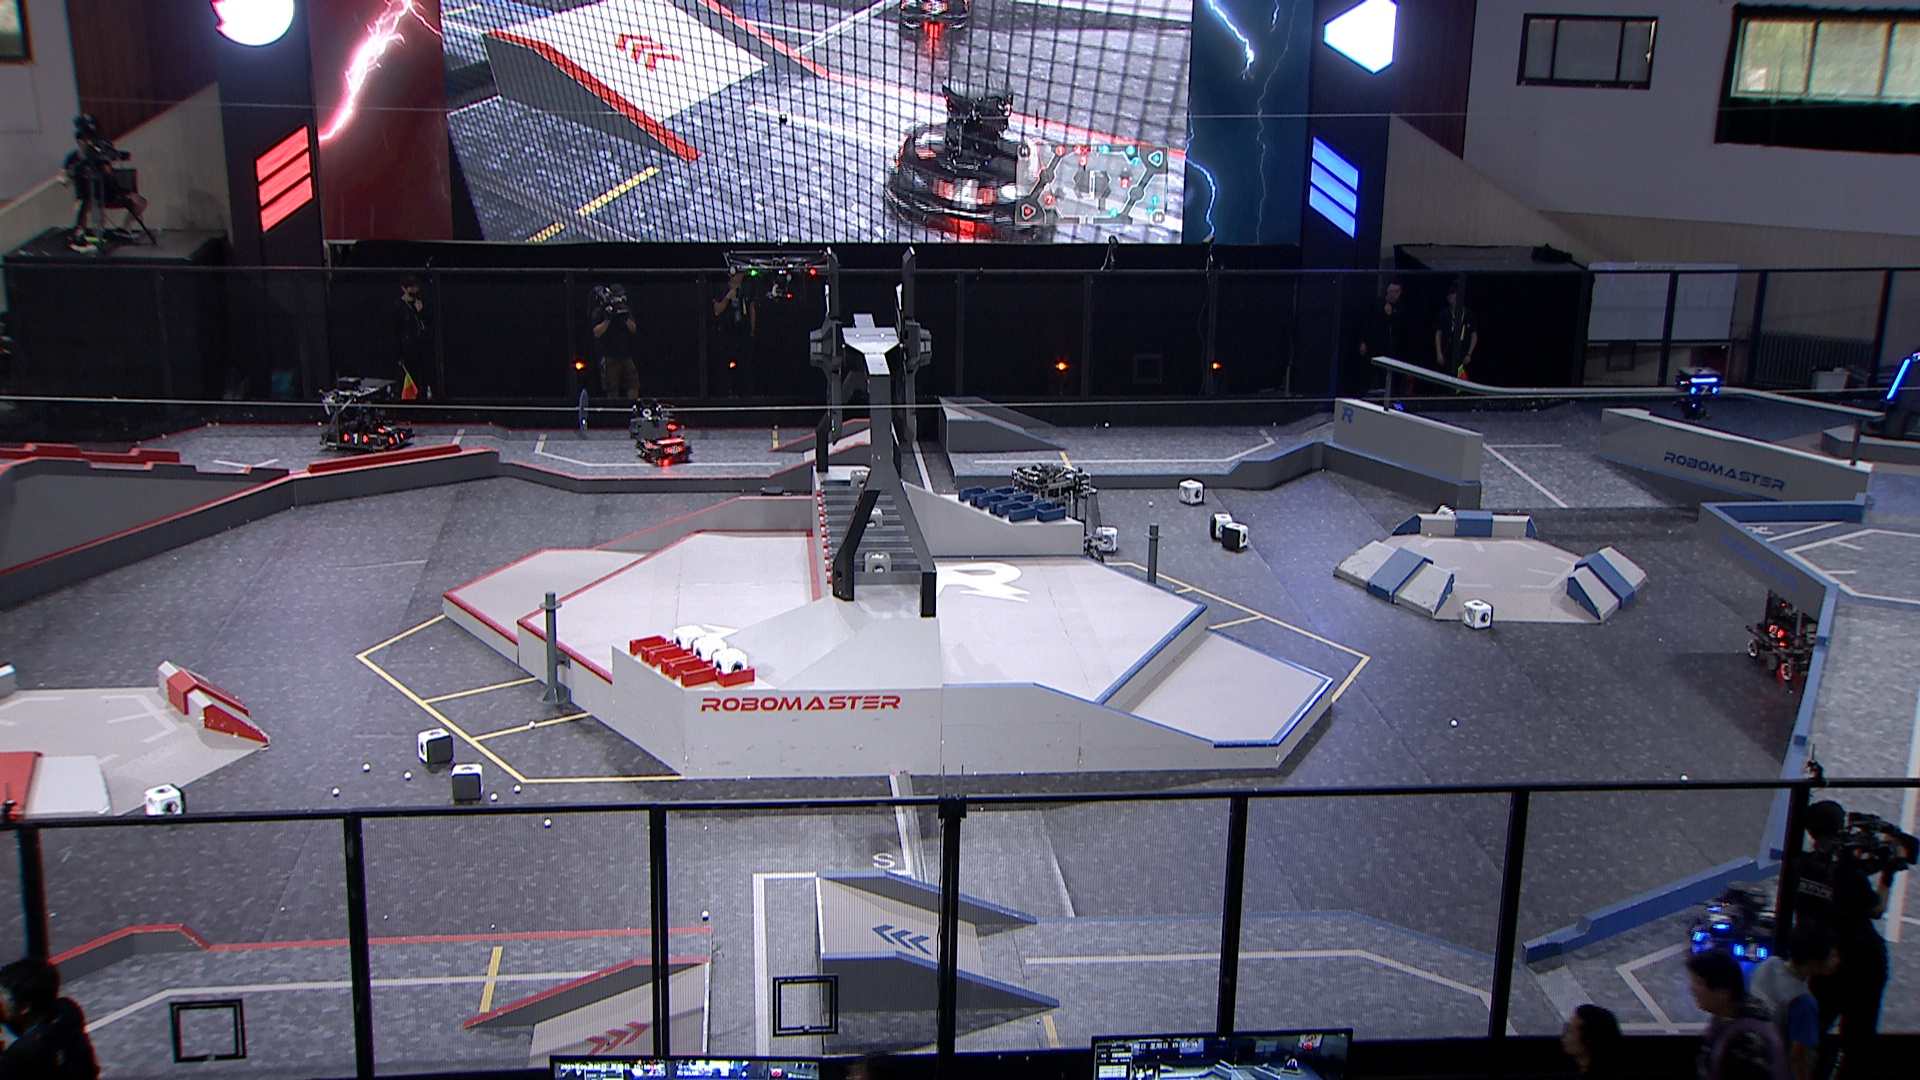armor: (1884, 357, 1912, 400), (1706, 905, 1733, 934), (1735, 942, 1770, 963), (1687, 920, 1708, 944), (340, 431, 371, 447), (1688, 384, 1720, 398), (1766, 622, 1787, 641), (386, 433, 406, 447), (376, 425, 400, 436), (665, 443, 683, 458), (640, 438, 655, 451)
base: (1858, 347, 1920, 444)
car: (1745, 568, 1869, 684), (1683, 882, 1807, 982), (1010, 465, 1110, 568), (318, 376, 415, 456), (636, 411, 694, 465)
ignore: (887, 73, 1062, 243)
watcher: (1676, 365, 1724, 425)
